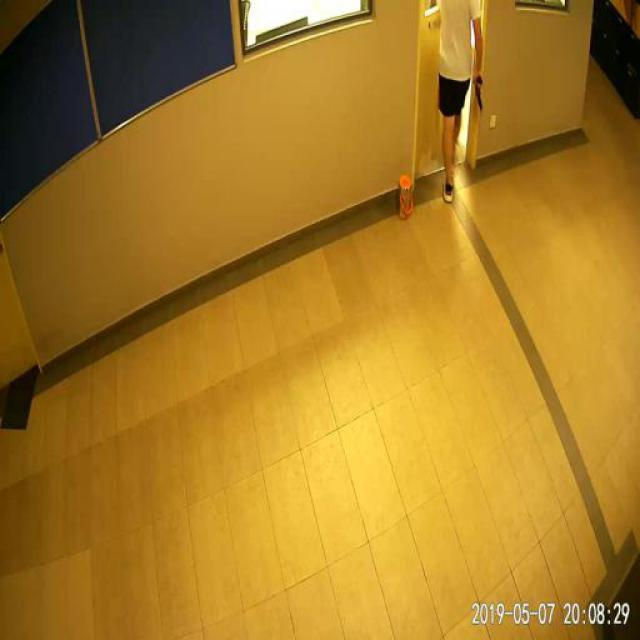weapon: (473, 76, 483, 110)
